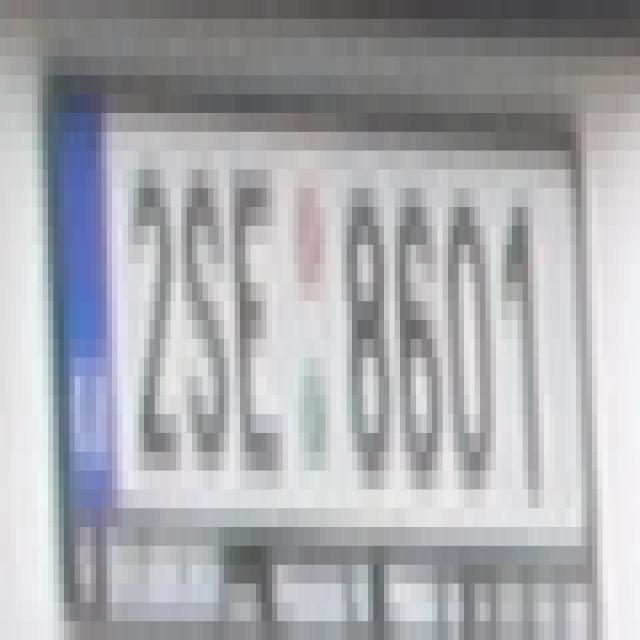0: (448, 206, 501, 489)
1: (502, 206, 550, 489)
2: (128, 132, 182, 490)
6: (394, 169, 438, 452)
8: (336, 169, 384, 433)
E: (229, 170, 283, 508)
S: (187, 169, 234, 452)
